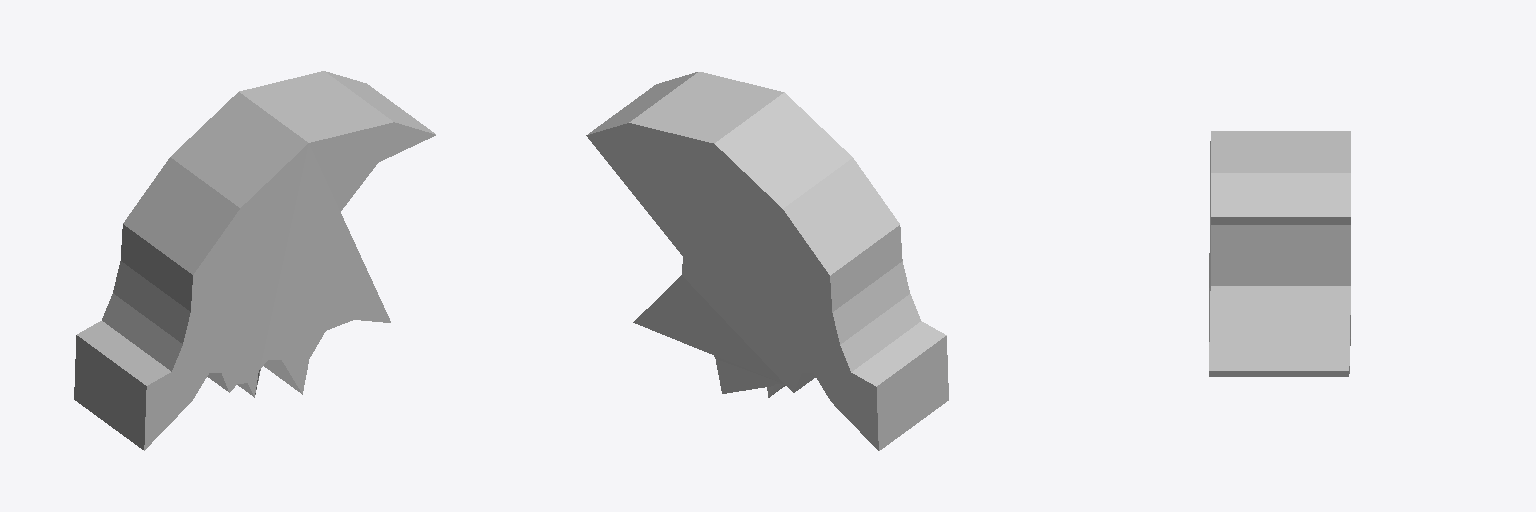
File: roughDemonWings.obj
3 renders of one model, left to right at view 1: azimuth 30°, elevation 25°; view 2: azimuth 150°, elevation 25°; view 3: azimuth 270°, elevation 25°, orthographic.
Parts seen in each view (by area): view 1: Cube_Cube.002; view 2: Cube_Cube.002; view 3: Cube_Cube.002.
Boxes of the visible parts, box(x1,y1,x2,y2) form: Cube_Cube.002: box(74, 71, 435, 450); Cube_Cube.002: box(586, 72, 948, 450); Cube_Cube.002: box(1209, 131, 1350, 376).
Size of the model in its own units: 1.18 by 1.03 by 0.4957.